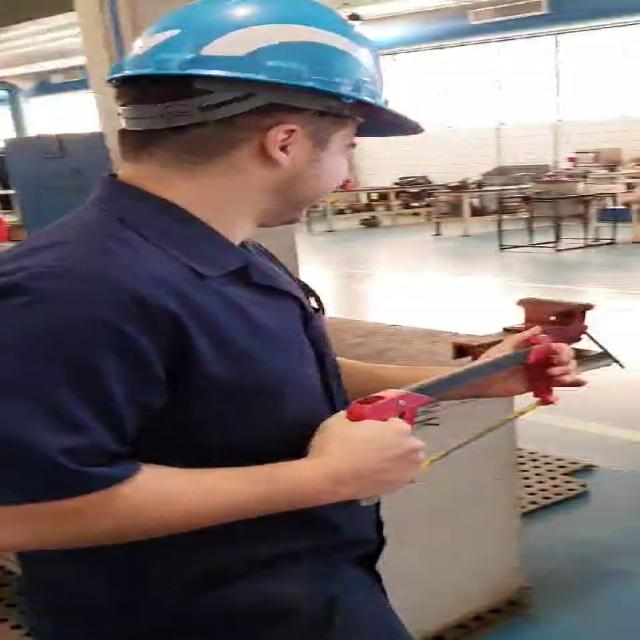sem_oculos: (265, 113, 374, 173)
